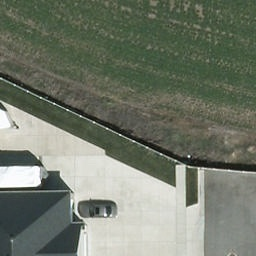camping car: (0, 165, 55, 189), (0, 88, 21, 140)
car: (78, 201, 118, 218)
